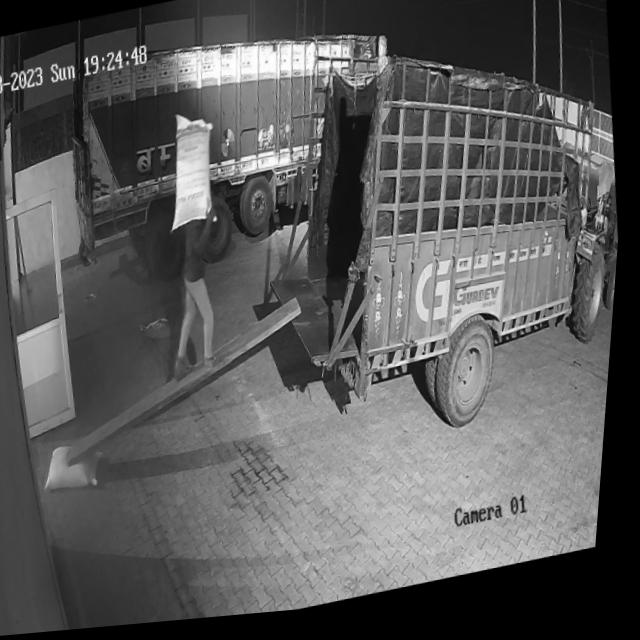sack: (163, 111, 226, 234), (47, 438, 112, 496)
